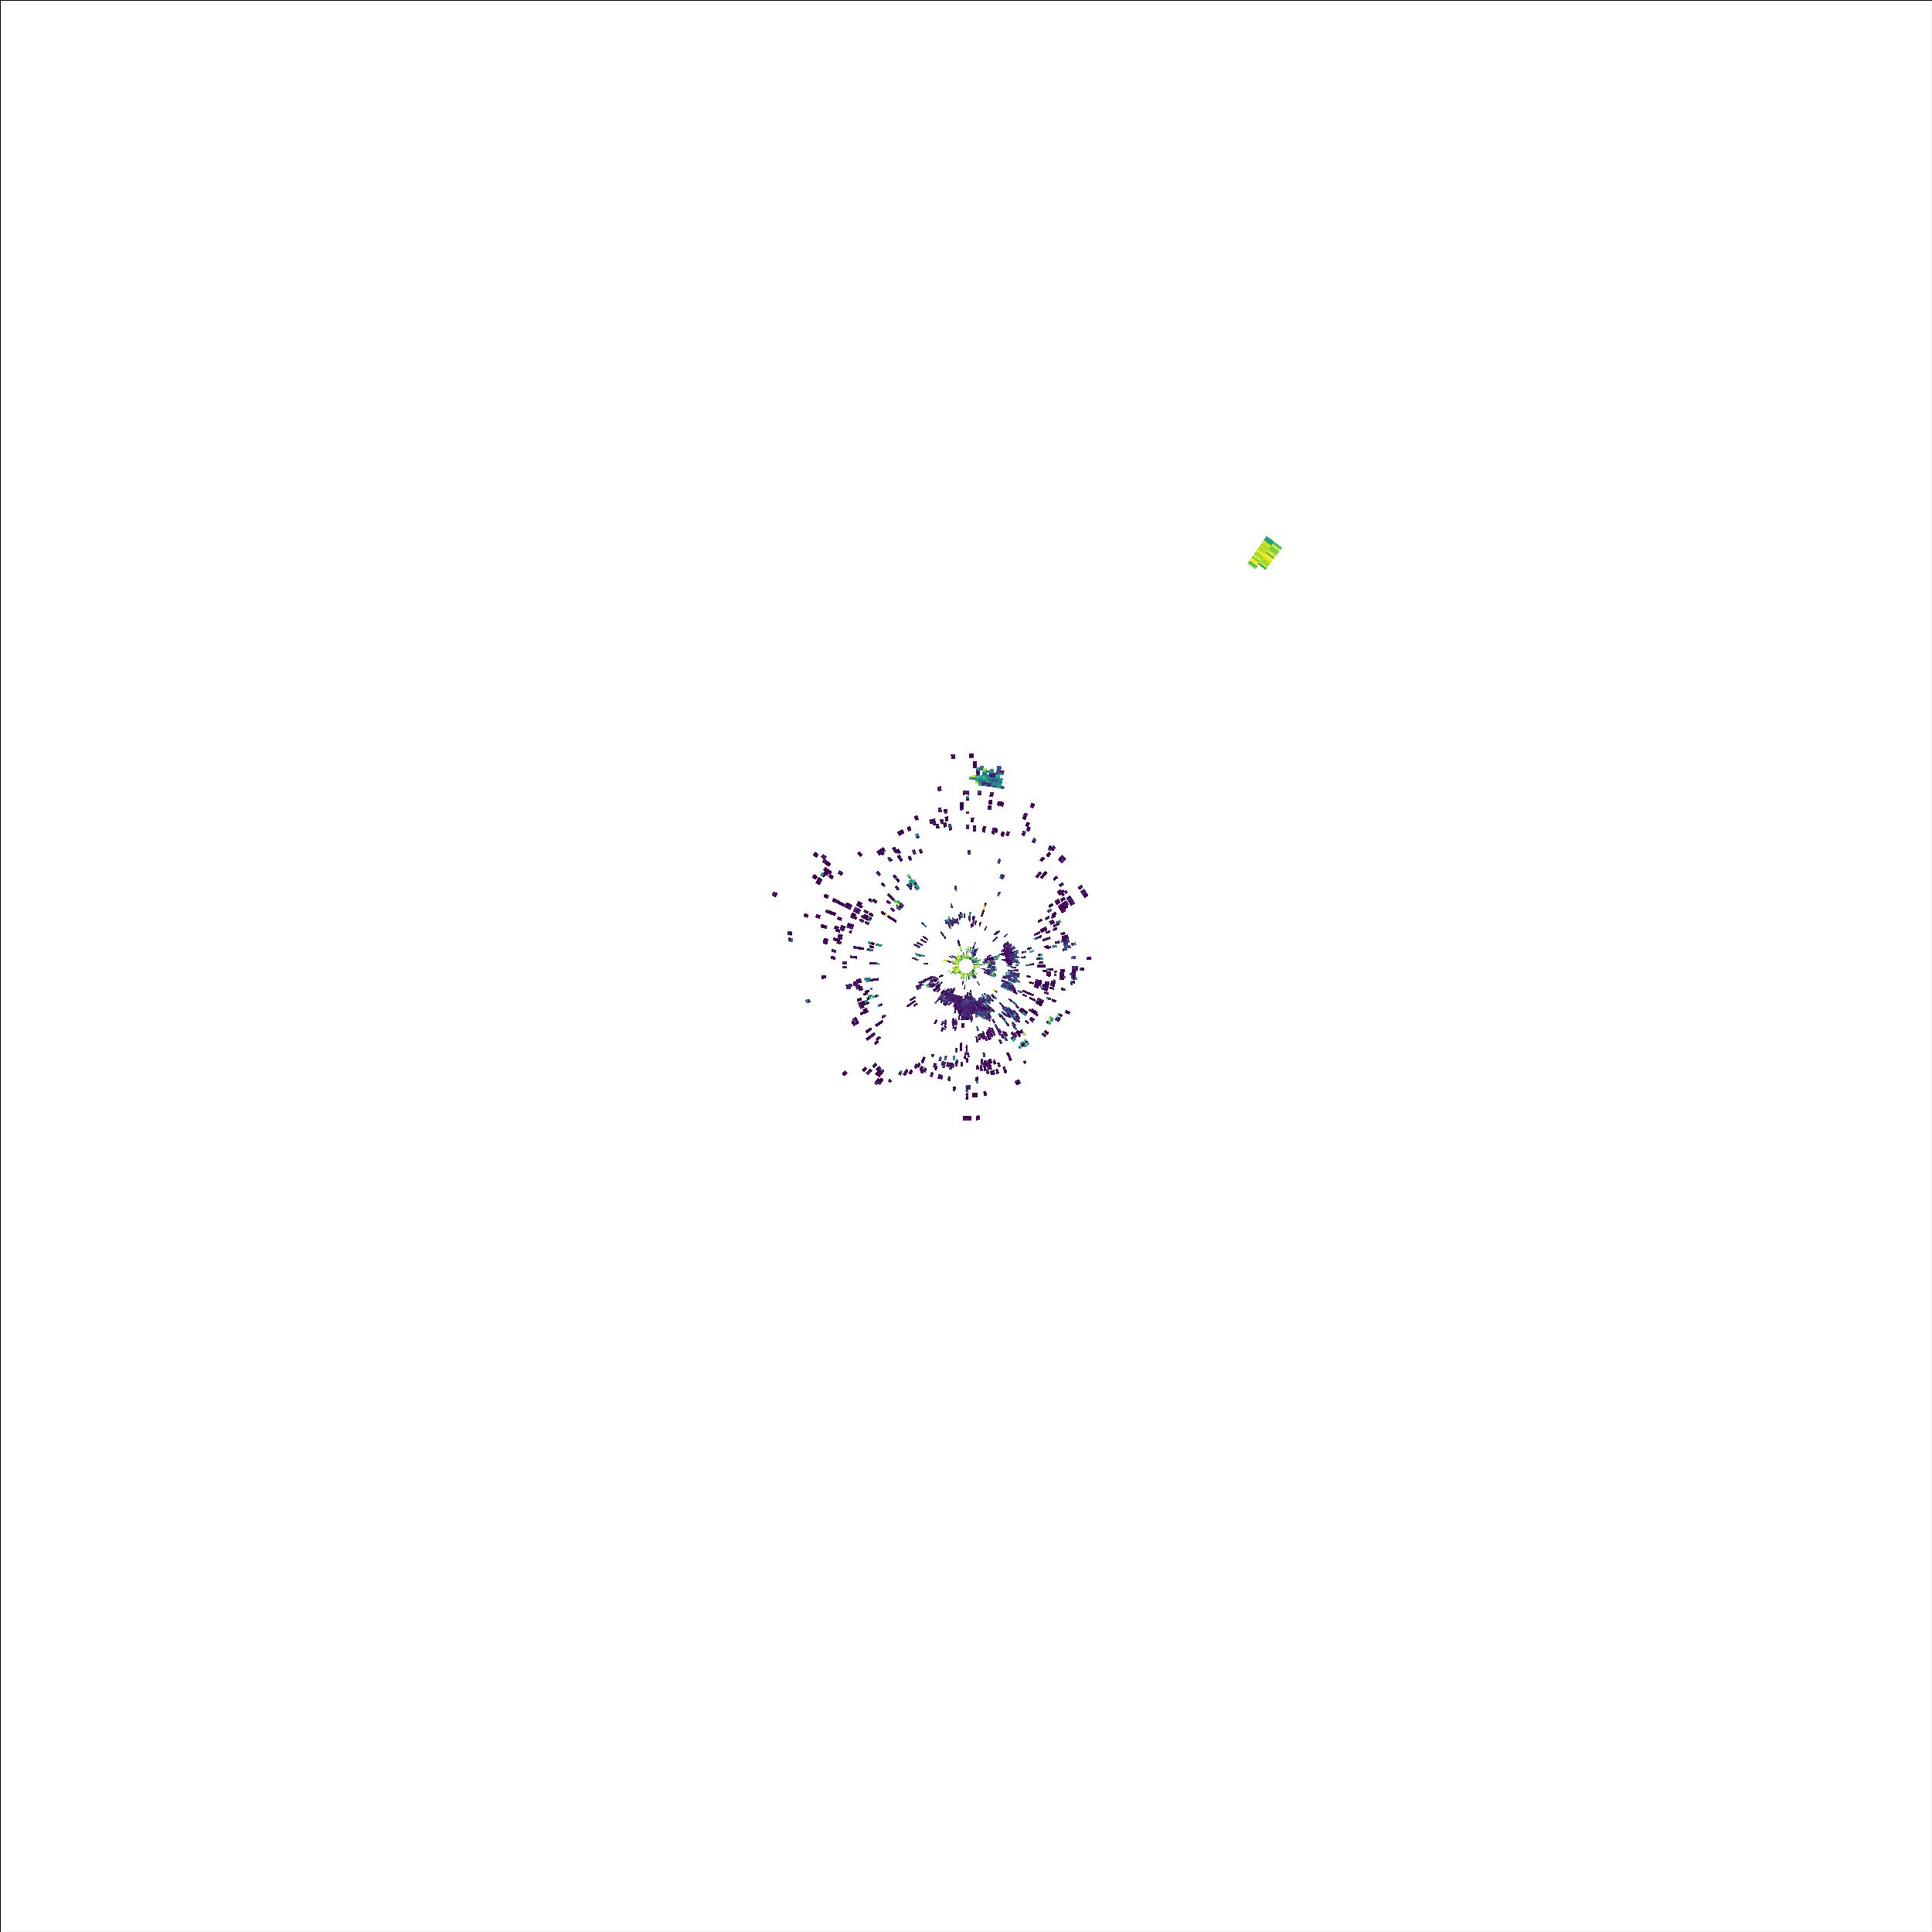fall: (1231, 524, 1299, 580)
